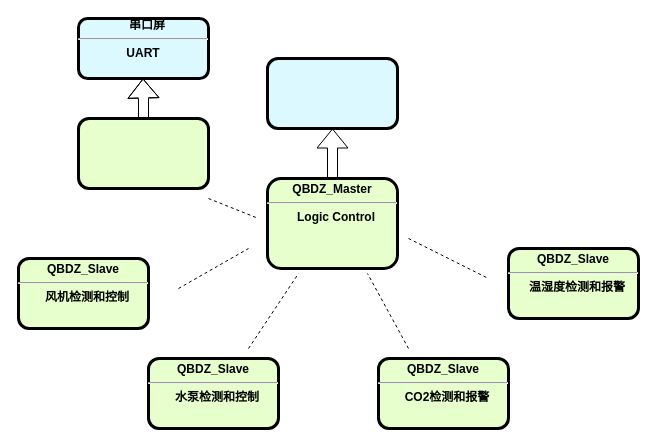
Image size: 657x447. Some labels were removed from this diagram. The shapes that lost their labels are listed below. From the top down, each one's box as (x1, y1, x2, y2) in pixels, then its label:
(266, 56, 398, 130): 云存储和处理 历史数据存储 UART
(76, 116, 210, 190): QBDZ_Slave 串口屏 BLE
